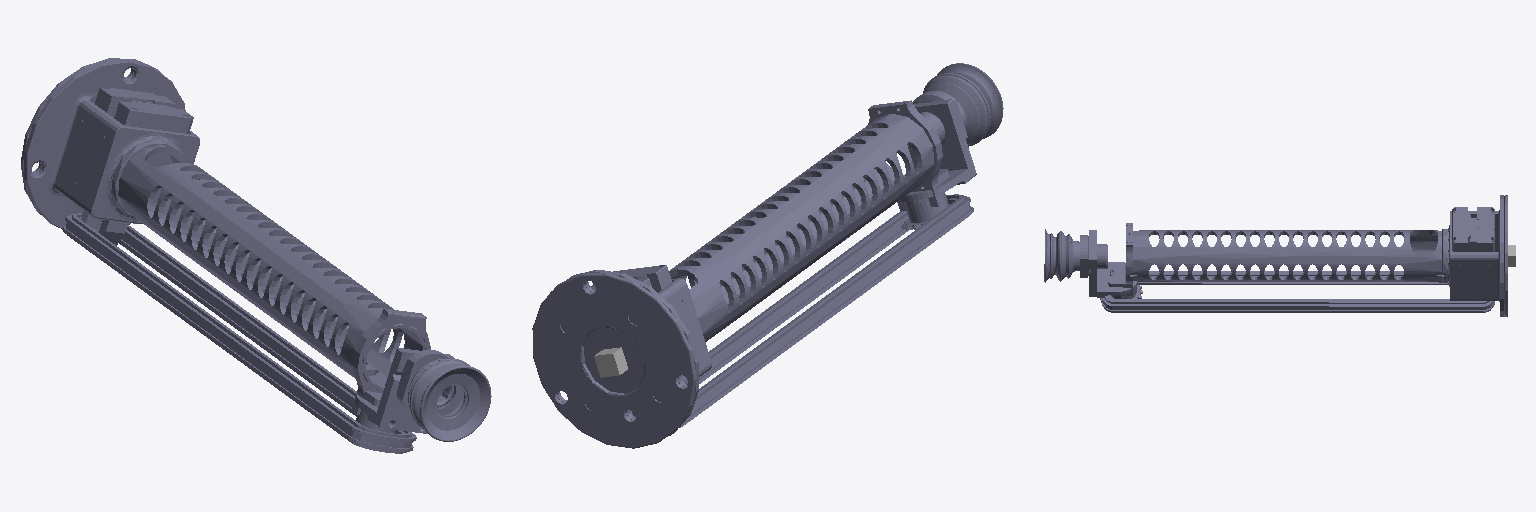
robot.urdf — aubo_i10:
<robot name="aubo_i10">

<!-- base_link-->

  <link name="base_link">
    <inertial>
      <origin xyz="-2.7535E-06 0.00054789 0.02299" rpy="0 0 0" />
      <mass value="1.2345" />
      <inertia ixx="0.0029215" ixy="2.2046E-07" ixz="-3.4773E-08" iyy="0.0028546" iyz="-7.6362E-06" izz="0.0051176" />
    </inertial>
    <visual>
      <origin xyz="0 0 0" rpy="0 0 0" />
      <geometry>
        <mesh filename="package://aubo_description/meshes/aubo_i10/base_link.DAE" />
      </geometry>
      <material name="">
        <color rgba="1 1 1 1" />
      </material>
    </visual>
    <collision>
      <origin xyz="0 0 0" rpy="0 0 0" />
      <geometry>
        <mesh filename="package://aubo_description/meshes/aubo_i10/base_link.STL" />
      </geometry>
    </collision>
  </link>

<!-- shoulder_Link -->

  <link name="shoulder_Link">
    <inertial>
      <origin xyz="0.00029287 0.14173 0.54281" rpy="0 0 0" />
      <mass value="10.994" />
      <inertia ixx="2.2088" ixy="-0.00043922" ixz="-0.0025417" iyy="2.1473" iyz="-0.049088" izz="0.07998" />
    </inertial>
    <visual>
      <origin xyz="0 0 0" rpy="0 0 0" />
      <geometry>
        <mesh
          filename="package://aubo_description/meshes/aubo_i10/shoulder_Link.DAE" />
      </geometry>
      <material name="">
        <color rgba="0.89804 0.91765 0.92941 1" />
      </material>
    </visual>
    <collision>
      <origin xyz="0 0 0" rpy="0 0 0" />
      <geometry>
        <mesh filename="package://aubo_description/meshes/aubo_i10/shoulder_Link.STL" />
      </geometry>
    </collision>
  </link>

<!-- shoulder_joint -->

  <joint name="shoulder_joint" type="revolute">
    <origin xyz="0 0 0.1632" rpy="-8.7138E-17 -4.3534E-32 3.1416" />
    <parent link="base_link" />
    <child link="shoulder_Link" />
    <axis xyz="0 0 1" />
    <limit lower="-6.28" upper="6.28" effort="0" velocity="0" /> 
    <!-- <limit effort="0" lower="0.0" upper="3.05" velocity="0"/> -->
  </joint>

<!-- upperArm_Link -->

  <link name="upperArm_Link">
    <inertial>
      <origin xyz="0.31908 -3.7071E-06 -0.0042956" rpy="0 0 0" />
      <mass value="5.3139" />
      <inertia ixx="0.0095171" ixy="7.2849E-06" ixz="-6.7014E-06" iyy="0.11411" iyz="-1.1529E-06" izz="0.11411" />
    </inertial>
    <visual>
      <origin xyz="0 0 0" rpy="0 0 0" />
      <geometry>
        <mesh filename="package://aubo_description/meshes/aubo_i10/upperArm_Link.DAE" />
      </geometry>
      <material name="">
        <color rgba="0.89804 0.91765 0.92941 1" />
      </material>
    </visual>
    <collision>
      <origin xyz="0 0 0" rpy="0 0 0" />
      <geometry>
        <mesh filename="package://aubo_description/meshes/aubo_i10/upperArm_Link.STL" />
      </geometry>
    </collision>
  </link>

<!-- upperArm_Joint -->

  <joint name="upperArm_joint" type="revolute">
    <origin xyz="0 0.2013 0" rpy="-1.5708 2.8 0" />
    <parent link="shoulder_Link" />
    <child link="upperArm_Link" />
    <axis xyz="0 0 1" />
    <limit lower="-6.28" upper="6.28" effort="0" velocity="0" /> 
    <!-- <limit effort="0" lower="0.0" upper="1.80" velocity="0"/> -->      <!-- Previously 1.57 --> 
  </joint>

<!-- foreArm_Link -->

  <link name="foreArm_Link">
    <inertial>
      <origin xyz="0.24431 6.6794E-06 0.12549" rpy="0 0 0" />
      <mass value="3.1022" />
      <inertia ixx="0.0027288" ixy="-6.2713E-06" ixz="-0.0018082" iyy="0.097825" iyz="3.5731E-07" izz="0.097866" />
    </inertial>
    <visual>
      <origin xyz="0 0 0" rpy="0 0 0" />
      <geometry>
        <mesh filename="package://aubo_description/meshes/aubo_i10/foreArm_Link.DAE" />
      </geometry>
      <material name="">
        <color rgba="1 1 1 1" />
      </material>
    </visual>
    <collision>
      <origin xyz="0 0 0" rpy="0 0 0" />
      <geometry>
        <mesh filename="package://aubo_description/meshes/aubo_i10/foreArm_Link.STL" />
      </geometry>
    </collision>
  </link>

<!-- foreArm_Joint -->

  <joint name="foreArm_joint" type="revolute">
    <origin xyz="0.647 0 0" rpy="3.1416 -4.5954E-17 1.57" />
    <parent link="upperArm_Link" />
    <child link="foreArm_Link" />
    <axis xyz="0 0 1" />
    <limit lower="-3.10" upper="3.10" effort="0" velocity="0" /> 
    <!-- <limit effort="0" lower="-3.05" upper="1.58" velocity="0"/> -->
  </joint>

<!-- wrist1_Link -->

  <link name="wrist1_Link">
    <inertial>
      <origin xyz="5.2305E-07 0.00026581 -0.0027894" rpy="0 0 0" />
      <mass value="0.57981" />
      <inertia ixx="0.00088336" ixy="-6.425E-09" ixz="5.1594E-09" iyy="0.00046118" iyz="-1.0734E-06" izz="0.00085336" />
    </inertial>
    <visual>
      <origin xyz="0 0 0" rpy="0 0 0" />
      <geometry>
        <mesh filename="package://aubo_description/meshes/aubo_i10/wrist1_Link.DAE" />
      </geometry>
      <material name="">
        <color rgba="1 1 1 1" />
      </material>
    </visual>
    <collision>
      <origin xyz="0 0 0" rpy="0 0 0" />
      <geometry>
        <mesh filename="package://aubo_description/meshes/aubo_i10/wrist1_Link.STL" />
      </geometry>
    </collision>
  </link>

<!-- wrist1_Joint -->

  <joint name="wrist1_joint" type="revolute">
    <origin xyz="0.6005 0 0" rpy="-3.1416 -1.4294E-15 1.5708" />
    <parent link="foreArm_Link" />
    <child link="wrist1_Link" />
    <axis xyz="0 0 1" />
    <limit lower="-6.28" upper="6.28" effort="0" velocity="0" />
  </joint>

<!-- wrist2_Link -->

  <link name="wrist2_Link">
    <inertial>
      <origin xyz="-5.2305E-07 -0.00026581 -0.0027894" rpy="0 0 0" />
      <mass value="0.57981" />
      <inertia ixx="0.00088336" ixy="-6.4251E-09" ixz="-5.1594E-09" iyy="0.00046118" iyz="1.0734E-06" izz="0.00085336" />
    </inertial>
    <visual>
      <origin xyz="0 0 0" rpy="0 0 0" />
      <geometry>
        <mesh filename="package://aubo_description/meshes/aubo_i10/wrist2_Link.DAE" />
      </geometry>
      <material name="">
        <color rgba="1 1 1 1" />
      </material>
    </visual>
    <collision>
      <origin xyz="0 0 0" rpy="0 0 0" />
      <geometry>
        <mesh filename="package://aubo_description/meshes/aubo_i10/wrist2_Link.STL" />
      </geometry>
    </collision>
  </link>

<!-- wrist2_Joint -->

  <joint name="wrist2_joint" type="revolute">
    <origin xyz="0 0.1025 0" rpy="-1.5708 -7.0777E-16 -7.4101E-16" />
    <parent link="wrist1_Link" />
    <child link="wrist2_Link" />
    <axis xyz="0 0 1" />
    <limit lower="-6.28" upper="6.28" effort="0" velocity="0" />
  </joint>

<!-- wrist3_Link -->

  <link name="wrist3_Link">
    <inertial>
      <origin xyz="-2.2127E-09 0.00023722 -0.018629" rpy="0 0 0" />
      <mass value="0.13669" />
      <inertia ixx="6.0946E-05" ixy="9.3663E-12" ixz="-1.3841E-12" iyy="5.9501E-05" iyz="1.9944E-07" izz="9.6981E-05" />
    </inertial>
    <visual>
      <origin xyz="0 0 0" rpy="0 0 0" />
      <geometry>
        <mesh filename="package://aubo_description/meshes/aubo_i10/wrist3_Link.DAE" />
      </geometry>
      <material name="">
        <color rgba="1 1 1 1" />
      </material>
    </visual>
    <collision>
      <origin xyz="0 0 0" rpy="0 0 0" />
      <geometry>
        <mesh filename="package://aubo_description/meshes/aubo_i10/wrist3_Link.STL" />
      </geometry>
    </collision>
  </link>

<!-- wrist3_Joint -->

  <joint name="wrist3_joint" type="revolute">
    <origin xyz="0 -0.094 0" rpy="1.5708 0 6.7283E-16" />
    <parent link="wrist2_Link" />
    <child link="wrist3_Link" />
    <axis xyz="0 0 1" />
    <limit lower="-6.28" upper="6.28" effort="0" velocity="0" /> 
    <!-- <limit effort="0" lower="-1.57" upper="1.57" velocity="0"/> -->
  </joint>

    <link name="ee_link">
    <collision>
      <geometry>
        <box size="0.01 0.01 0.01"/>
      </geometry>
      <origin rpy="0 0 0" xyz="0 0 0"/>
    </collision>
     <visual>
    <origin xyz="0 0 0" rpy="0 0 0"/>
    <geometry>
      <box size="0.01 0.01 0.01"/>
    </geometry>
  </visual>
  </link>

  <joint name="ee_fixed_joint" type="fixed">
      <parent link="wrist3_Link" />
      <child link = "ee_link" />
      <origin xyz="0.0 0.0 0.0" rpy="0.0 0.0 1.57" />
    </joint>


<!-- Gripper V1.1 -->

  <link name="vacuum_gripper">
    <inertial> 
      <origin xyz="0 0 0" rpy="0 0 0"/> <mass value="0.8"/> <inertia ixx="0.1" ixy="0.0" ixz="0.0" iyy="0.1" iyz="0.0" izz="0.1"/>
    </inertial>
    <visual>
      <geometry>
        <!-- <mesh filename="package://aubo_description/meshes/gripper/vacuum/Gripper_V1_1_Body.stl" /> -->
        <mesh filename="package://aubo_description/meshes/gripper/vacuum/Gripper_V1_1_Body_300mm.stl" />
      </geometry>
      <material name="metal">
        <color rgba="0.5 0.5 0.6 1"/>
      </material>
    </visual>
    <collision>
      <geometry>
        <!-- <mesh filename="package://aubo_description/meshes/gripper/vacuum/Gripper_V1_1_Body_collision.dae" /> -->
        <mesh filename="package://aubo_description/meshes/gripper/vacuum/Gripper_V1_1_Body_300mm.stl" />
      </geometry>
       <material name="metal">
        <color rgba="0.5 0.5 0.6 1"/>
      </material>
    </collision>
  </link>

<!-- end of arm-vacuum gripper coupling link definitions --> 

  <!-- start of arm-gripper coupling joint definitions -->
  <joint name="wrist_to_gripper" type="fixed">
    <parent link="ee_link"/>
    <child link="vacuum_gripper"/>
    <origin xyz="0.0 0.0 0.0" rpy="0.0 1.57 0"/>
  </joint>

  <link name="vacuum_gripper_eef_link">
    <inertial> 
      <origin xyz="0 0 0" rpy="0 0 0"/> <mass value="0.1"/> <inertia ixx="0.1" ixy="0.0" ixz="0.0" iyy="0.1" iyz="0.0" izz="0.1"/>
    </inertial>
    <visual>
      <geometry>
        <mesh filename="package://aubo_description/meshes/gripper/vacuum/Gripper_V1_1_Cup.stl" />
      </geometry>
      <material name="metal">
        <color rgba="0.5 0.5 0.6 1"/>
      </material>
    </visual>
    <collision>
      <geometry>
        <mesh filename="package://aubo_description/meshes/gripper/vacuum/Gripper_V1_1_Cup_collision.dae" />
      </geometry>
       <material name="metal">
        <color rgba="0.5 0.5 0.6 1"/>
      </material>
    </collision>
  </link>

  <joint name="gripper_to_eef" type="fixed">
    <parent link="vacuum_gripper"/>
    <child link="vacuum_gripper_eef_link"/>
   <!-- <origin xyz="-0.55086 0.0 0.03418" rpy="0 0.0 0.0" />  -->
      <origin xyz="-0.25086 0.0 0.03418" rpy="0 0.0 0.0" /> 
      <axis xyz="0 0 1" />
      <limit lower="-1.8" upper="1.8" effort="28.0" velocity="12.14"/>
      <dynamics damping="0.0" friction="0.0"/>
  </joint>

  <link name="eef_to_suction" />

  <joint name="suction" type="fixed">
    <parent link="vacuum_gripper_eef_link"/>
    <child link="eef_to_suction"/>
    <origin xyz="-0.06 0.0 -0.03418" rpy="0.0 0.0 3.14159"/>
  </joint>

  <transmission name="gripper_eef_trans">
    <type>transmission_interface/SimpleTransmission</type>
    <joint name="gripper_to_eef">
      <hardwareInterface>PositionJointInterface</hardwareInterface>
    </joint>
    <actuator name="gripper_eef_motor">
      <mechanicalReduction>1</mechanicalReduction>
    </actuator>
  </transmission>

  <link name="world" />
  <joint name="world_joint" type="fixed">
    <parent link="world" />
    <child link = "base_link" />
    <origin xyz="0.0 0.0 1.2" rpy="0.0 3.14 0.0" />
  </joint>

</robot>

--- Facts derived from the render (not from the file) ---
3 views of the same robot in one strip: view 1: azimuth 30°, elevation 25°; view 2: azimuth 150°, elevation 25°; view 3: azimuth 270°, elevation 25° (orthographic).
Robot: aubo_i10 — 12 links, 11 joints (6 revolute, 5 fixed); root link world; default pose: all joints at 0.
Visible links, largest first — view 1: vacuum_gripper, vacuum_gripper_eef_link; view 2: vacuum_gripper, vacuum_gripper_eef_link, ee_link; view 3: vacuum_gripper, vacuum_gripper_eef_link.
Boxes of the visible links, box(x1,y1,x2,y2) form: vacuum_gripper: box(21, 58, 430, 453); vacuum_gripper_eef_link: box(355, 348, 491, 441); vacuum_gripper: box(532, 100, 973, 448); vacuum_gripper_eef_link: box(899, 63, 1003, 229); ee_link: box(594, 347, 627, 377); vacuum_gripper: box(1100, 195, 1507, 316); vacuum_gripper_eef_link: box(1044, 229, 1142, 298).
Size in the robot's own frame: 0.08 by 0.3074 by 0.08 metres.
Meshes: 9 distinct files referenced, 2 mesh visuals loaded (2 binary STL); not drawn: 7 (reference not matched to a file when rendering).